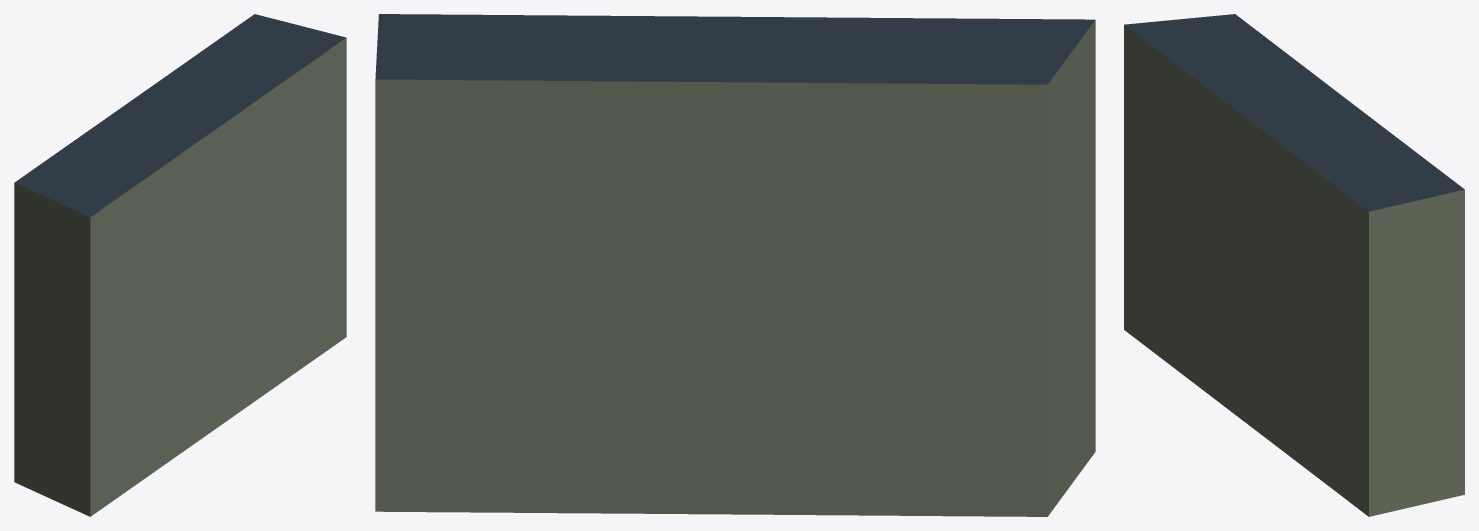
Rendered from nyc-1080612-0.glb.
3 renders of one model, left to right at view 1: azimuth 30°, elevation 25°; view 2: azimuth 150°, elevation 25°; view 3: azimuth 270°, elevation 25°, orthographic. The views are drawn at different scales.
Parts seen in each view (by area): view 1: nyc-1080612-0; view 2: nyc-1080612-0; view 3: nyc-1080612-0.
Boxes of the visible parts, x1,y1,x2,y2 form: nyc-1080612-0: [14, 14, 346, 516]; nyc-1080612-0: [375, 14, 1095, 516]; nyc-1080612-0: [1124, 14, 1464, 516].
Bounding box in the file's own units: 32.37 × 23.29 × 23.58.
